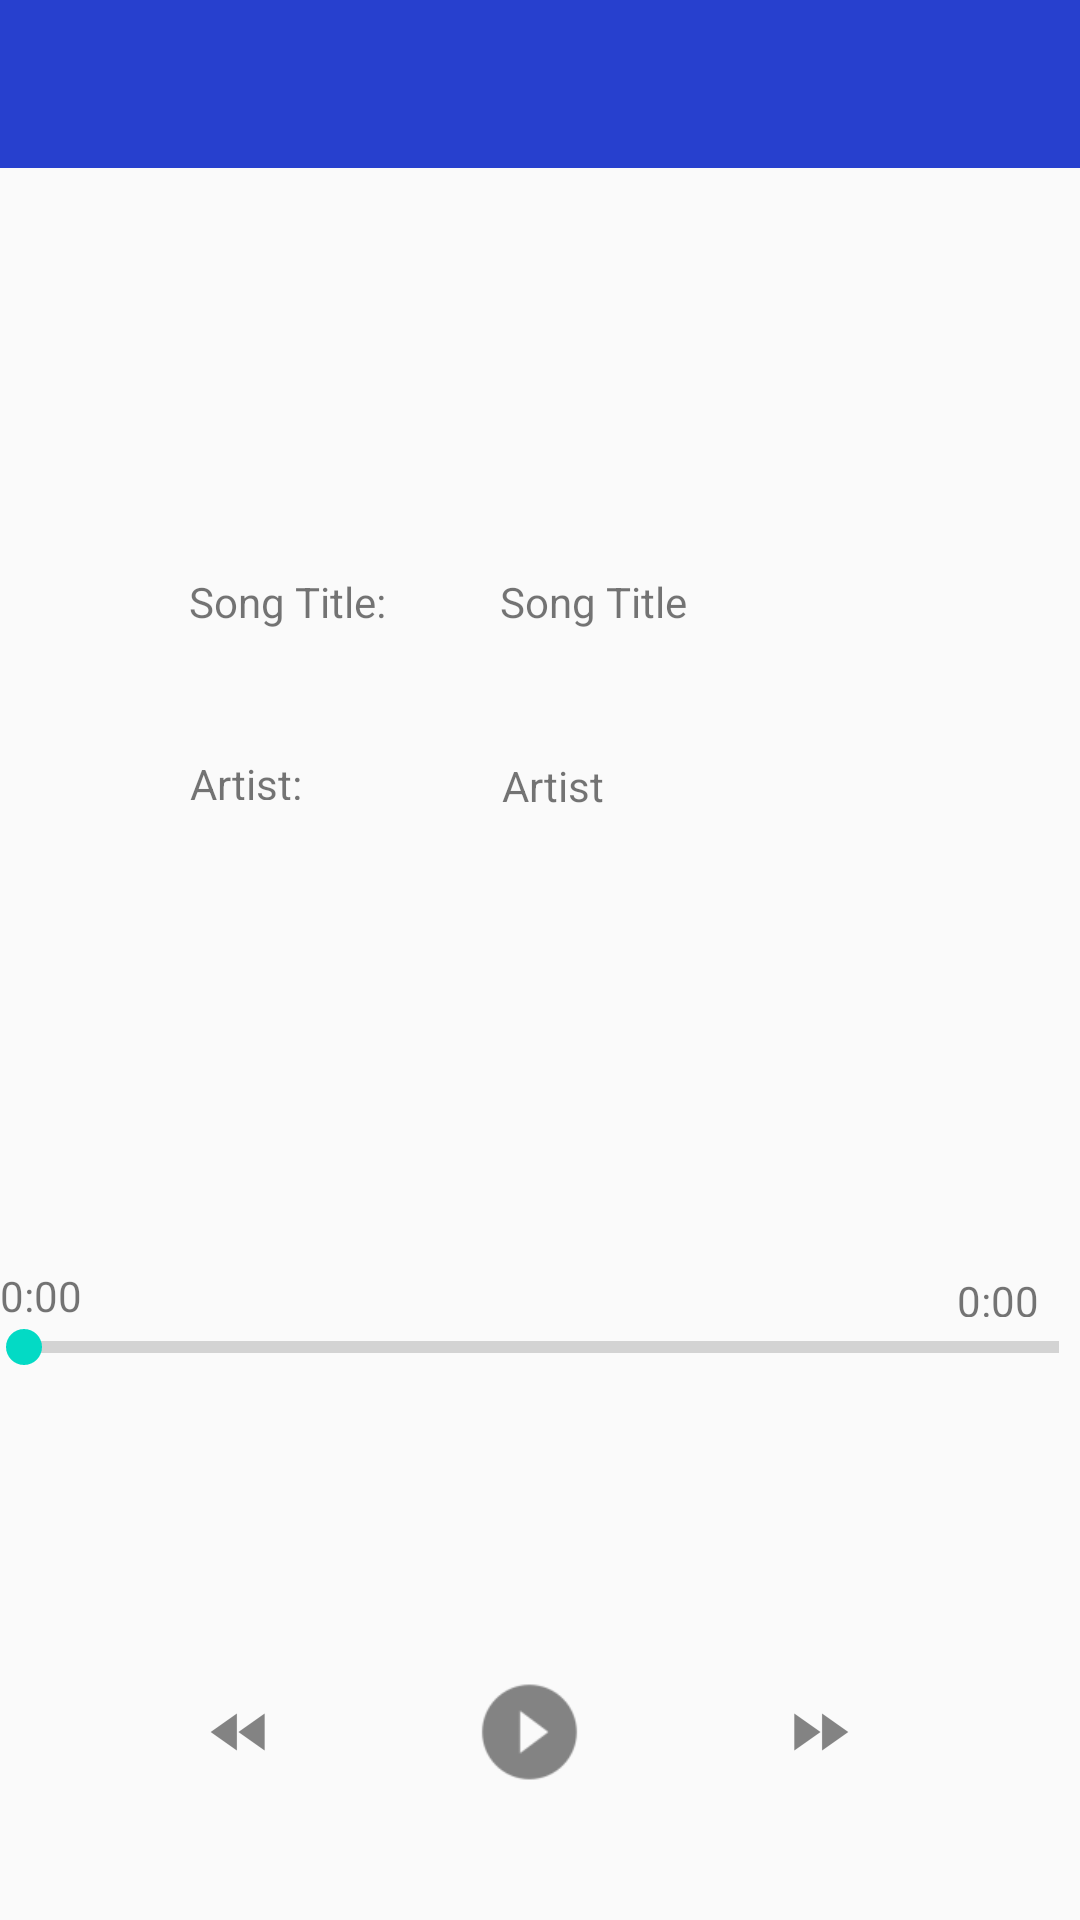

Icons on this 1080w x 1920h Android screen, each with the point to tap as point (x, y):
foward: point (821, 1732)
play: point (529, 1732)
rewind: point (238, 1732)
